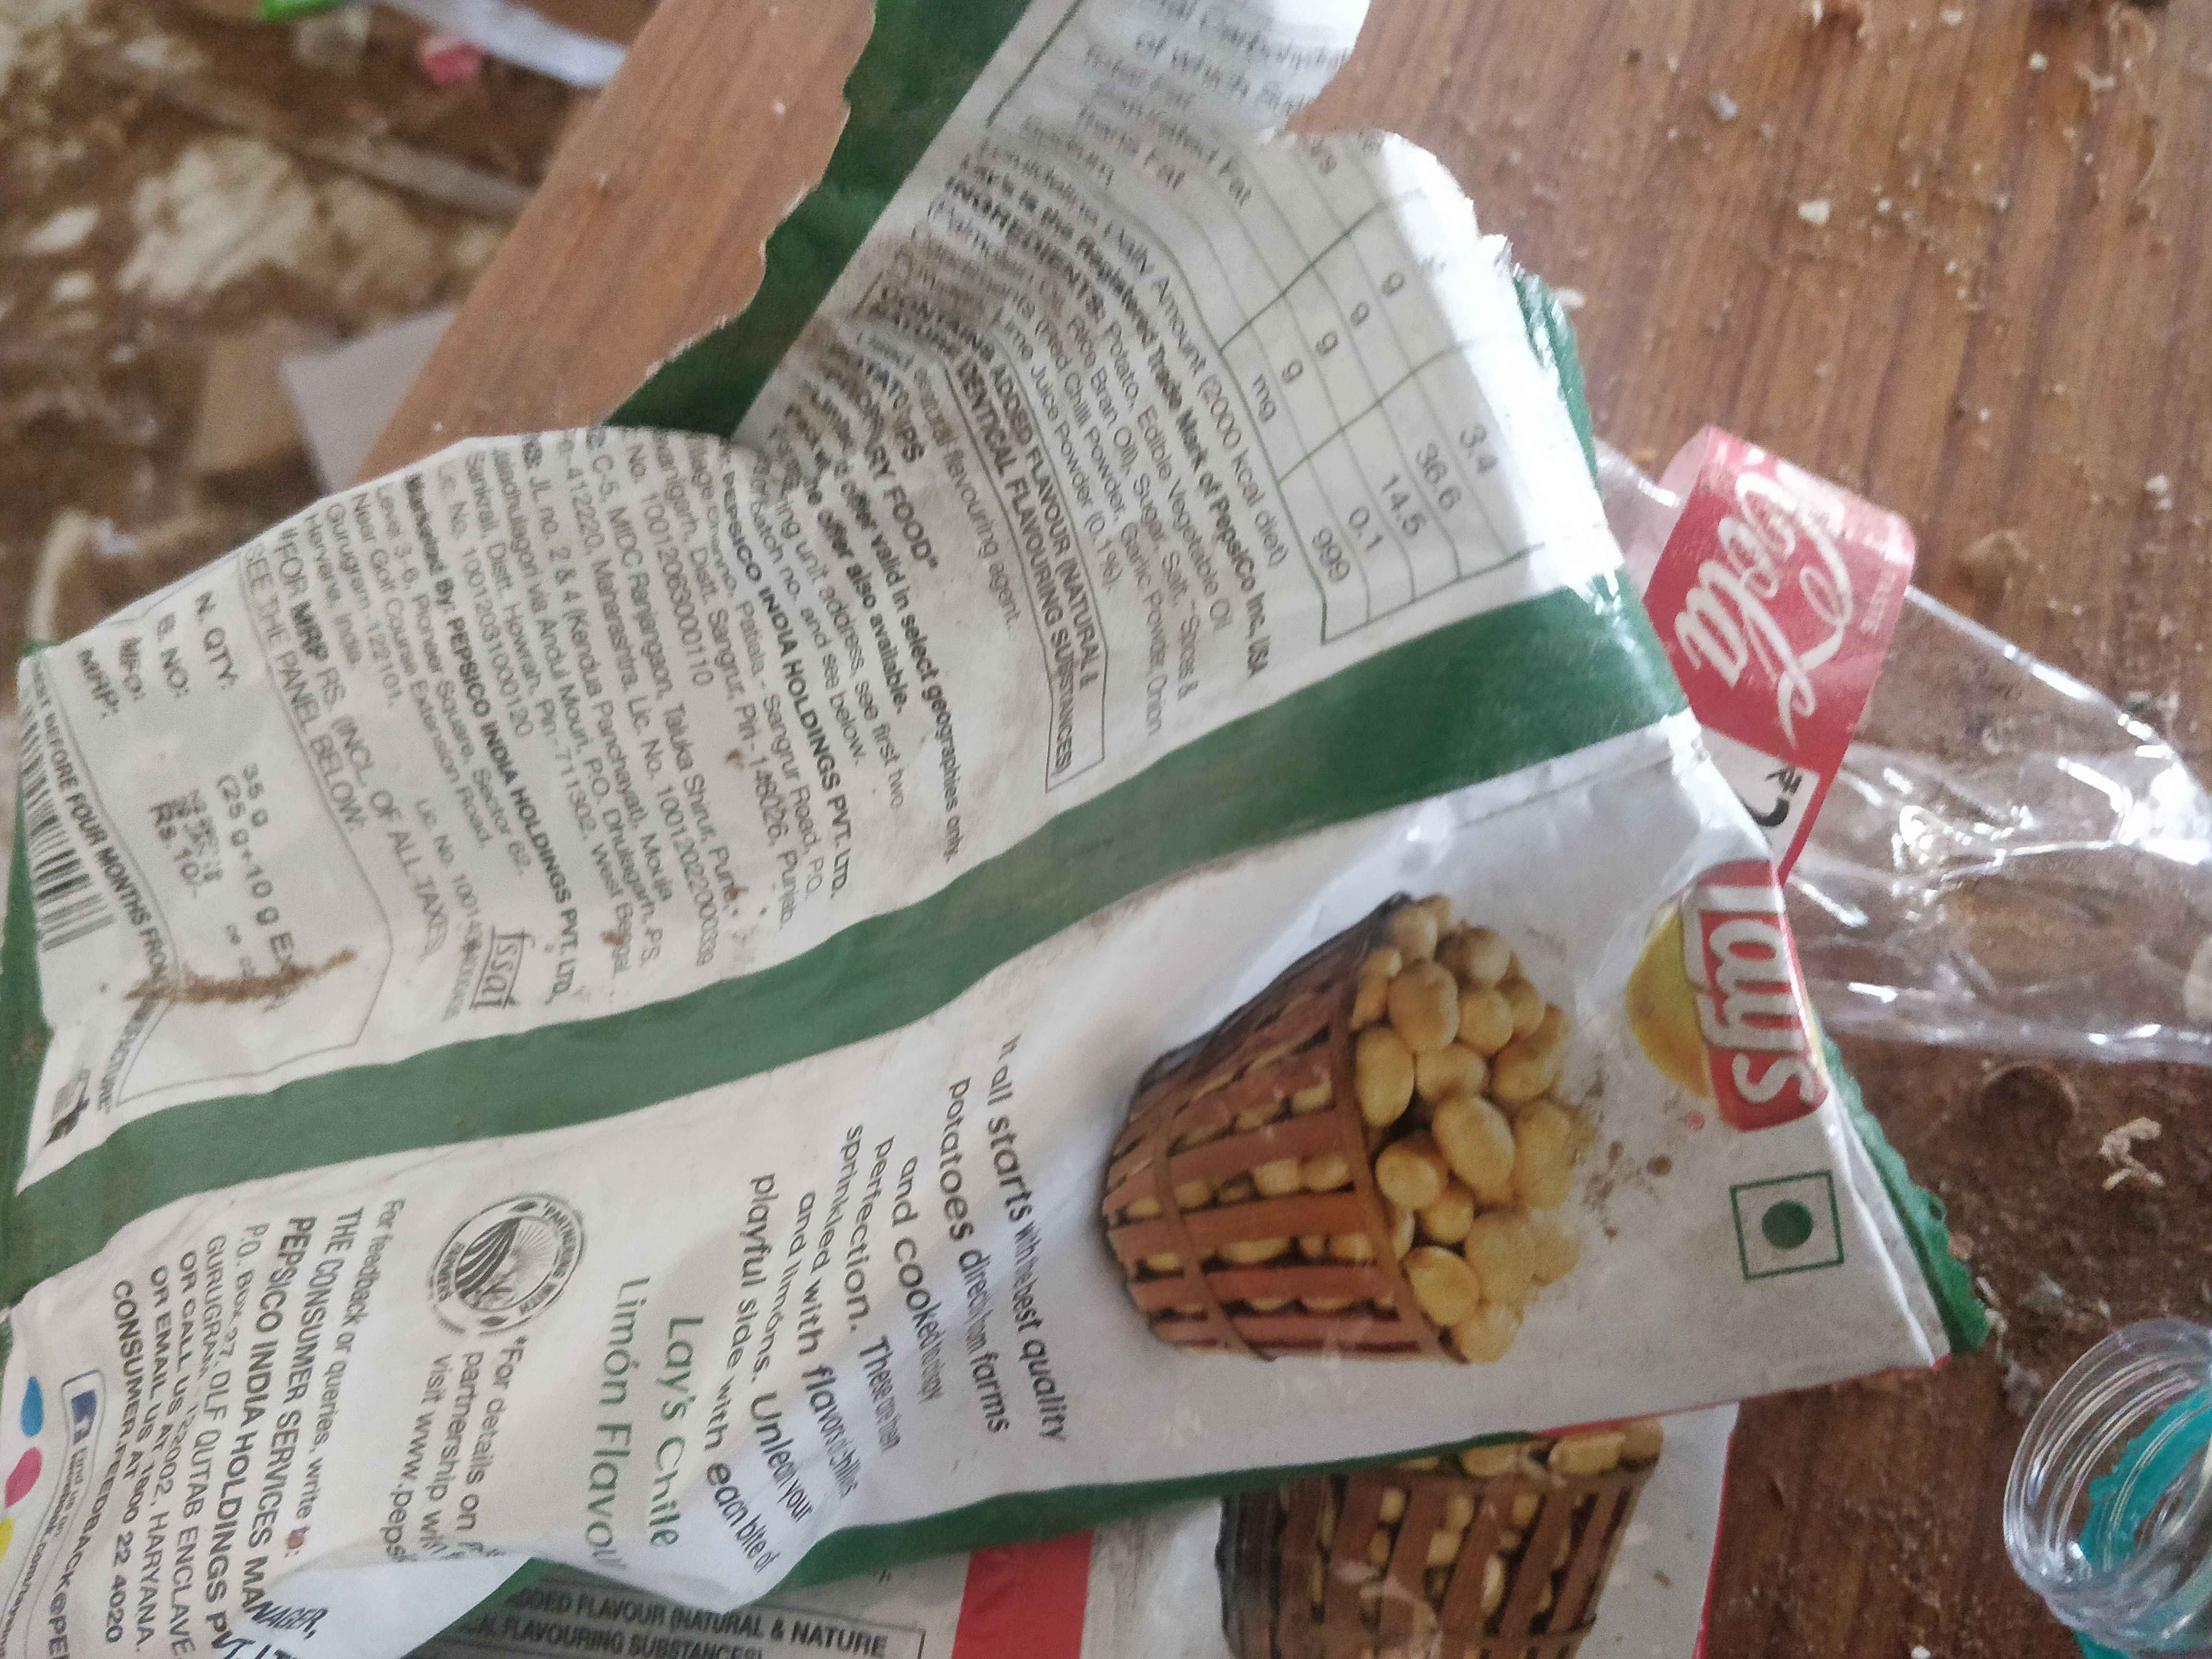Coca-Cola: (1651, 394, 1824, 850)
Lays: (1629, 859, 1864, 1141)
